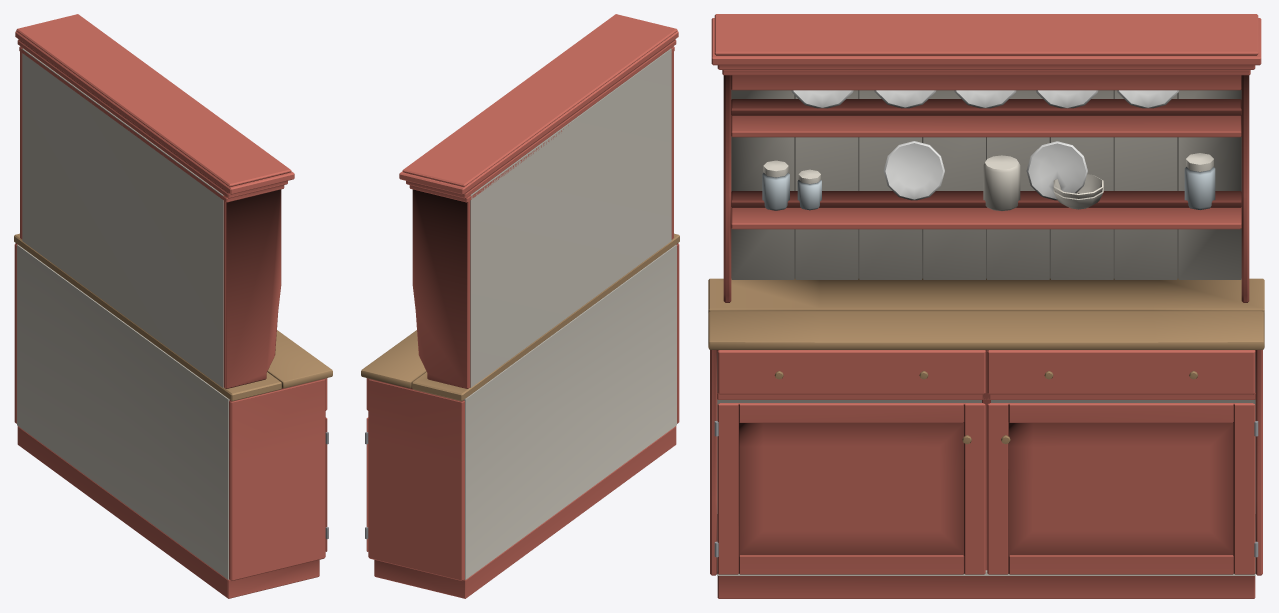
Rendered from cupboard.glb.
3 views of the same model, side by side, from view 1: azimuth 30°, elevation 25°; view 2: azimuth 150°, elevation 25°; view 3: azimuth 270°, elevation 25° (orthographic). The views are drawn at different scales.
Parts seen in each view (by area): view 1: PART; view 2: PART; view 3: PART, DOOR_L, DOOR_R, DRAWER_1, DRAWER_2.
Boxes of the visible parts, box(x1,y1,x2,y2) form: PART: box(14, 14, 332, 598); PART: box(361, 14, 679, 598); PART: box(708, 14, 1264, 598); DOOR_L: box(987, 403, 1255, 574); DOOR_R: box(717, 403, 985, 574); DRAWER_1: box(987, 350, 1255, 394); DRAWER_2: box(717, 350, 985, 394).
Bounding box in the file's own units: 0.503 × 1.9 × 1.81.
